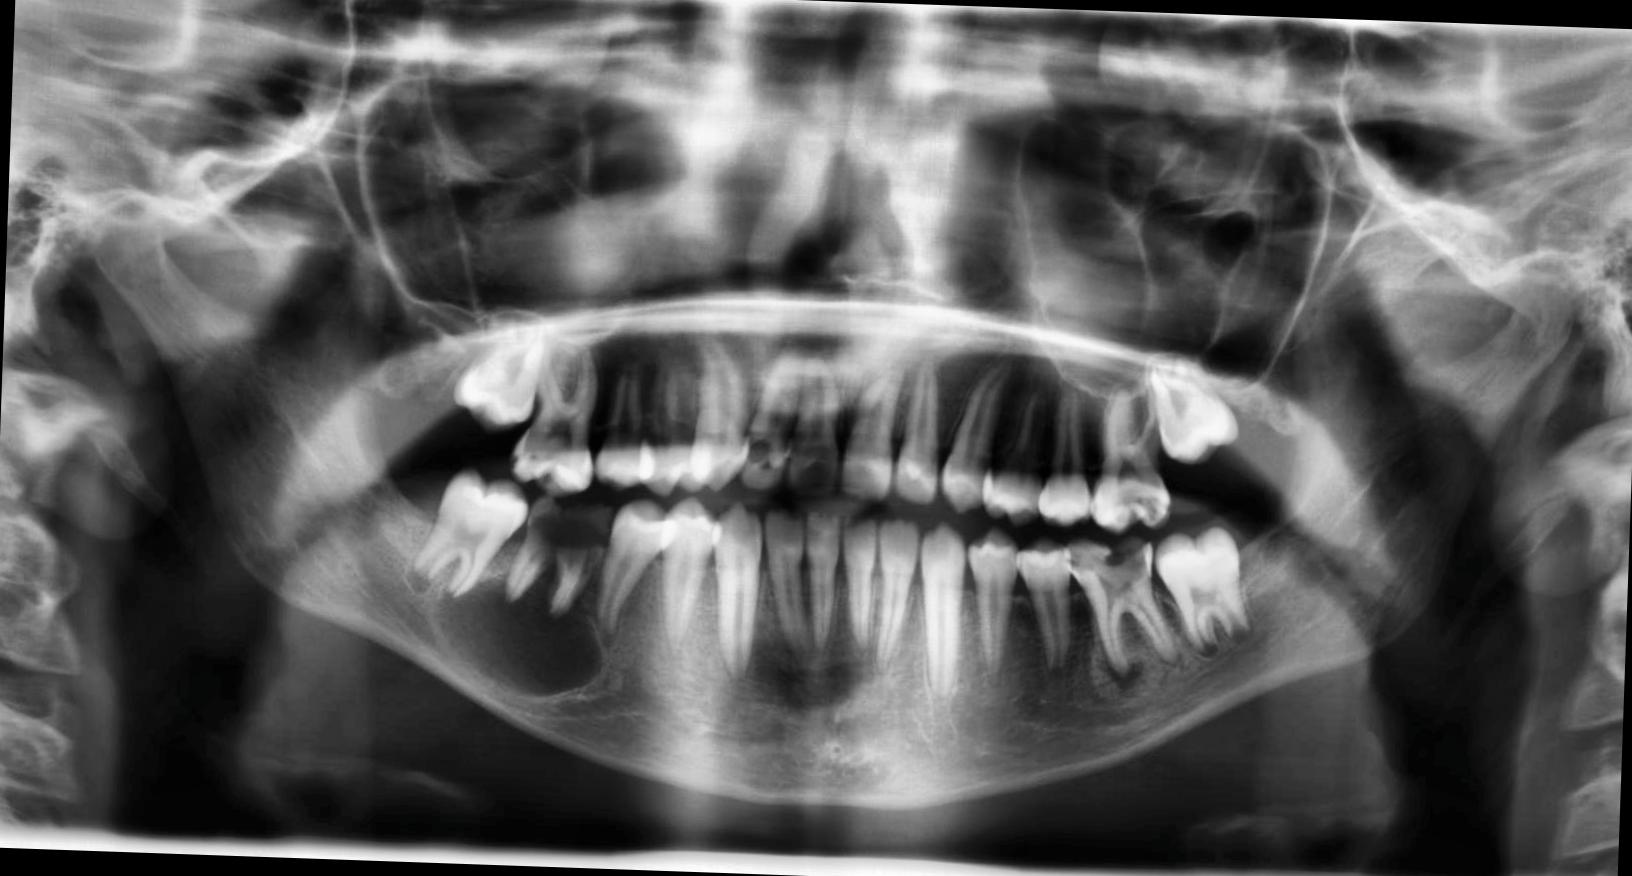radicular: (430, 562, 612, 703)
